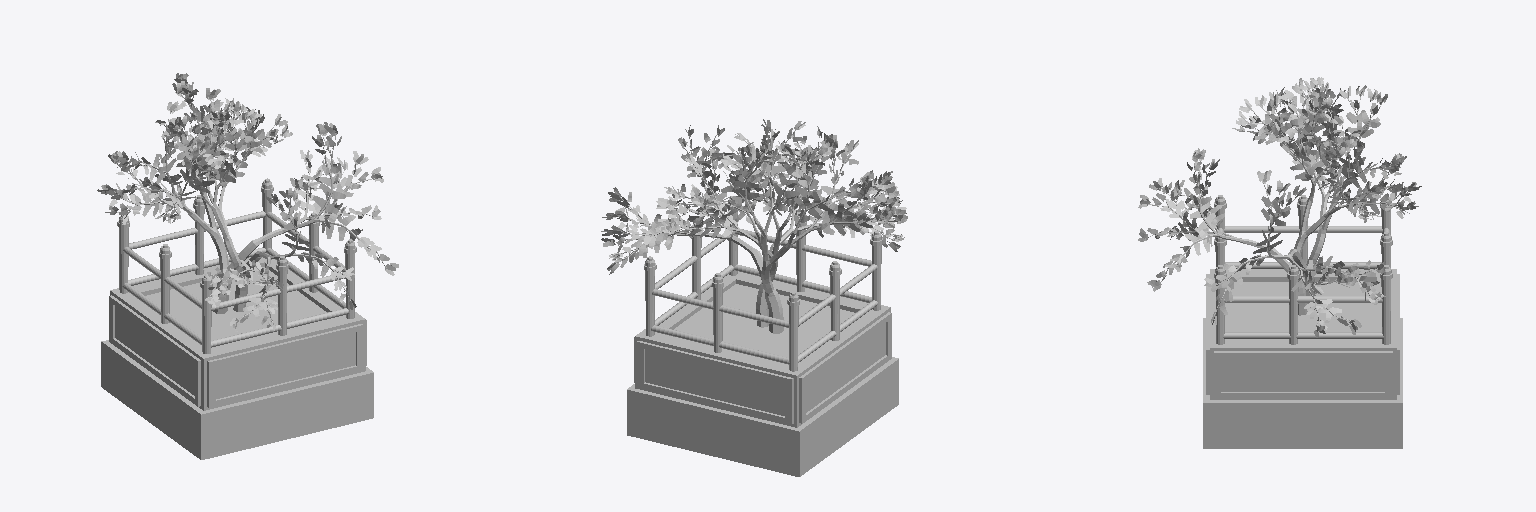
Rendered from plant.obj.
3 renders of one model, left to right at view 1: azimuth 30°, elevation 25°; view 2: azimuth 150°, elevation 25°; view 3: azimuth 270°, elevation 25°, orthographic.
Visible parts, largest first — view 1: objPlant.002; view 2: objPlant.002; view 3: objPlant.002.
Boxes of the visible parts, x1,y1,x2,y2 form: objPlant.002: [97, 73, 398, 459]; objPlant.002: [601, 119, 907, 476]; objPlant.002: [1138, 77, 1421, 448].
Size of the model in its own units: 0.5649 by 0.5844 by 0.4797.